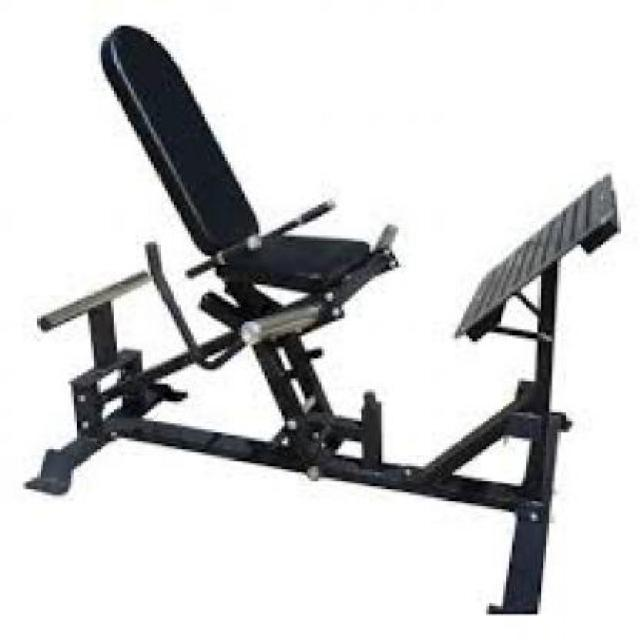leg press: (26, 11, 639, 626)
